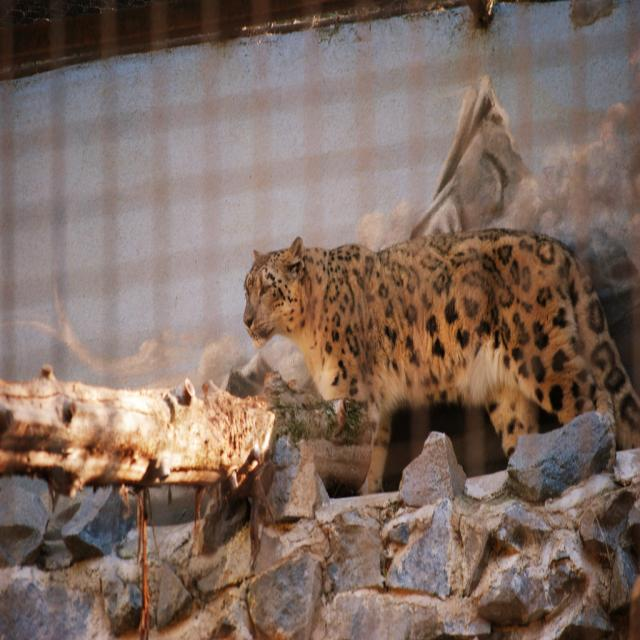Cheetah: (236, 216, 626, 447)
